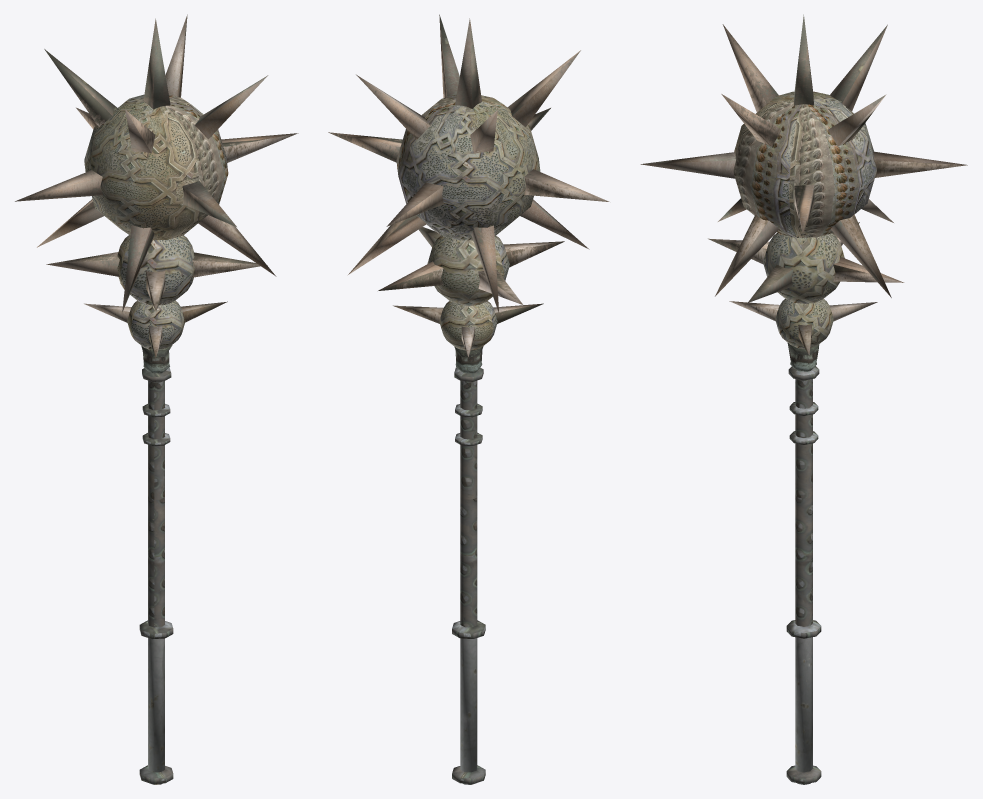
File: SM_BigFattyBro_00.fbx
3 views of the same model, side by side, from view 1: azimuth 30°, elevation 25°; view 2: azimuth 150°, elevation 25°; view 3: azimuth 270°, elevation 25° (orthographic).
Visible parts, largest first — view 1: SM_BigFattyBro_00; view 2: SM_BigFattyBro_00; view 3: SM_BigFattyBro_00.
Boxes of the visible parts, x1,y1,x2,y2 form: SM_BigFattyBro_00: (15, 14, 298, 784); SM_BigFattyBro_00: (328, 14, 609, 784); SM_BigFattyBro_00: (640, 14, 967, 784).
Size of the model in its own units: 83.61 by 215 by 83.61.
